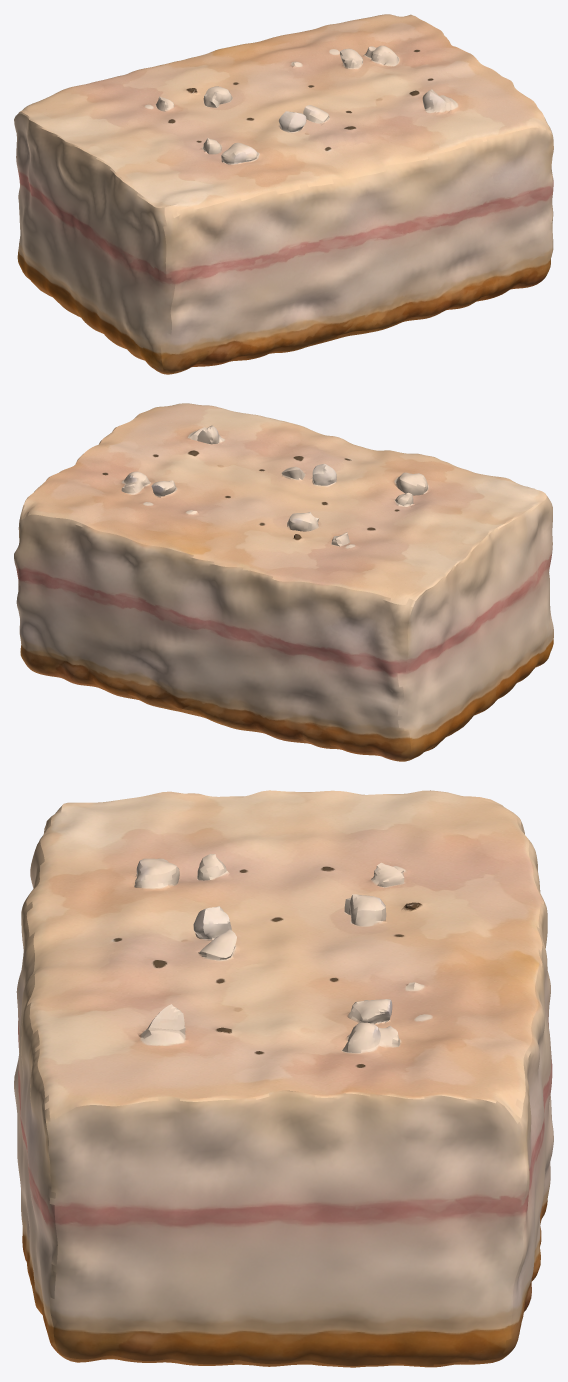
The model's file is lard.glb.
3 renders of one model, top to bottom at view 1: azimuth 30°, elevation 25°; view 2: azimuth 150°, elevation 25°; view 3: azimuth 270°, elevation 25°, orthographic. The views are drawn at different scales.
Visible parts, largest first — view 1: Mesh0; view 2: Mesh0; view 3: Mesh0.
Part boxes in pixels (left/top/right/bottom): Mesh0: left=14, top=14, right=553, bottom=374; Mesh0: left=14, top=403, right=553, bottom=761; Mesh0: left=14, top=790, right=553, bottom=1367.
Bounding box in the file's own units: 1.9 × 0.8482 × 1.37.
1 material, 1 textured.
